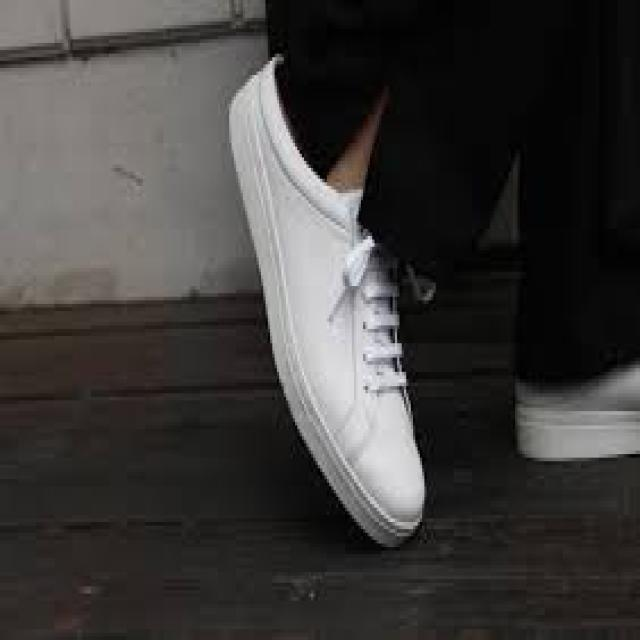shoe: (224, 42, 438, 557)
